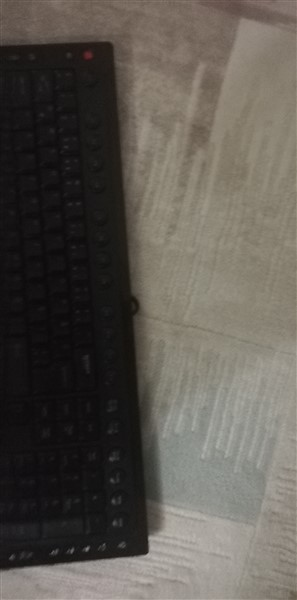klavye: (1, 41, 156, 574)
